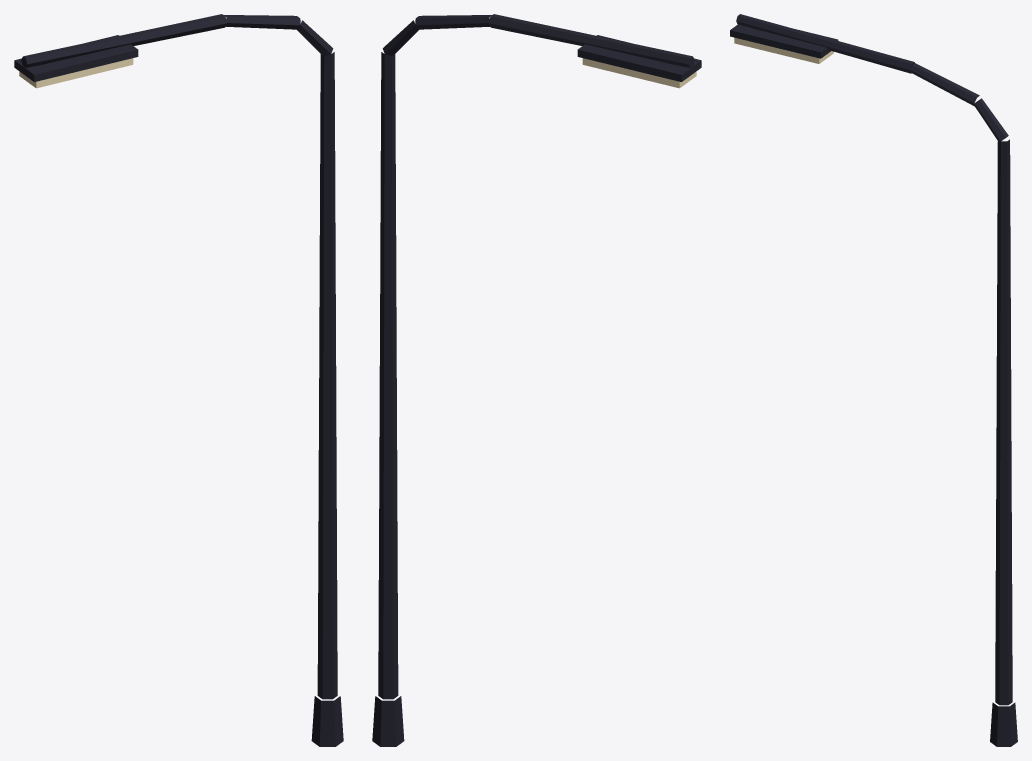
File: lamp.glb
3 views of the same model, side by side, from view 1: azimuth 30°, elevation 25°; view 2: azimuth 150°, elevation 25°; view 3: azimuth 330°, elevation 25° (orthographic). The views are drawn at different scales.
Visible parts, largest first — view 1: root; view 2: root; view 3: root.
Part boxes in pixels (x1,y1,x2,y2): root: (14, 14, 343, 746); root: (372, 14, 701, 746); root: (730, 14, 1017, 746).
Size of the model in its own units: 3.64 by 8.35 by 0.4.
